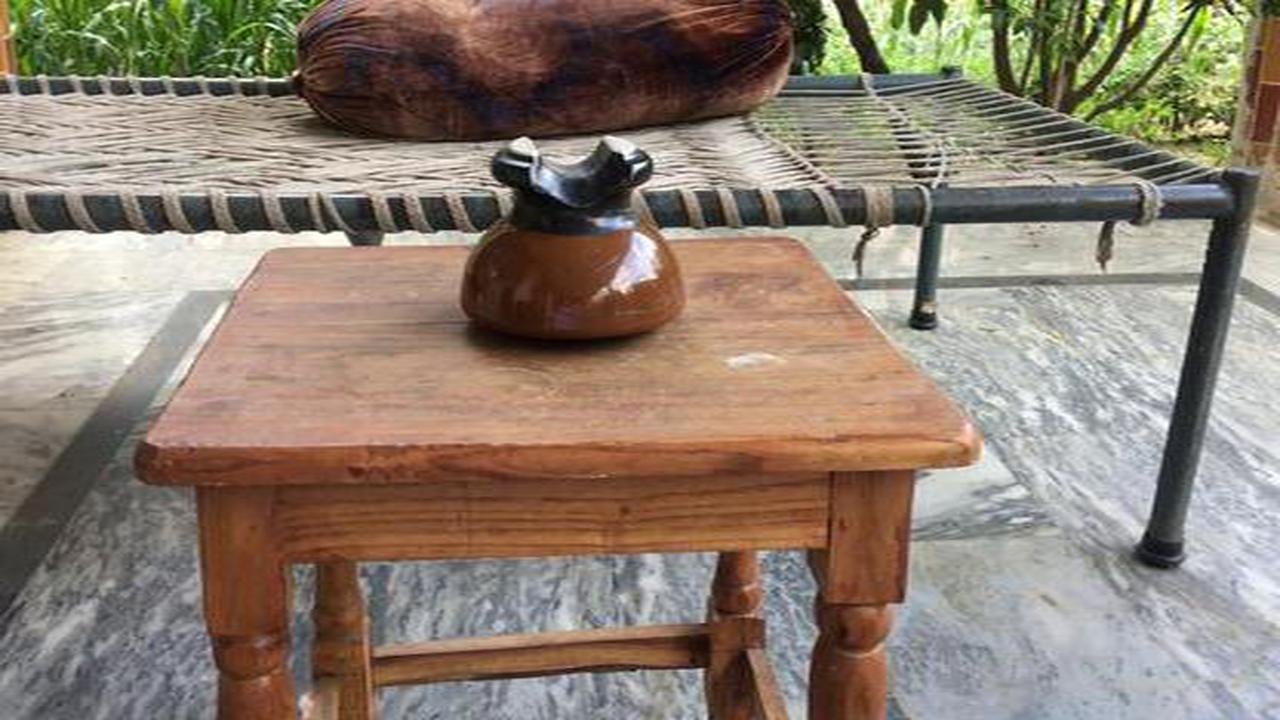insulator_pin: (444, 110, 711, 359)
